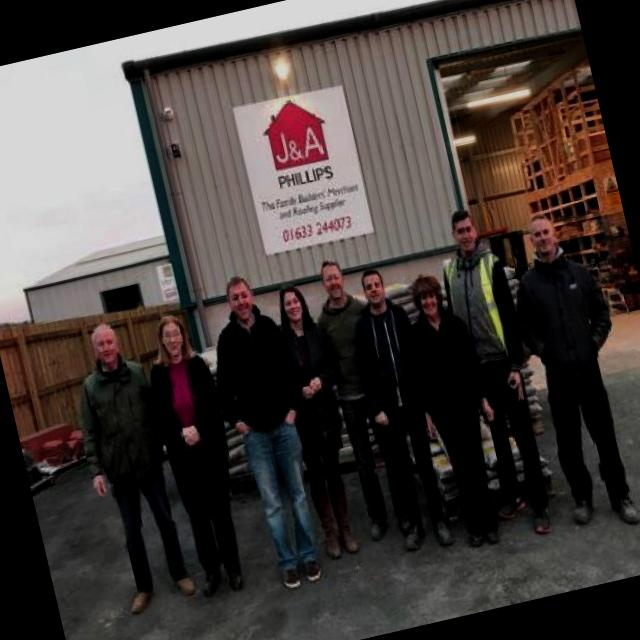vest: (438, 245, 522, 362)
